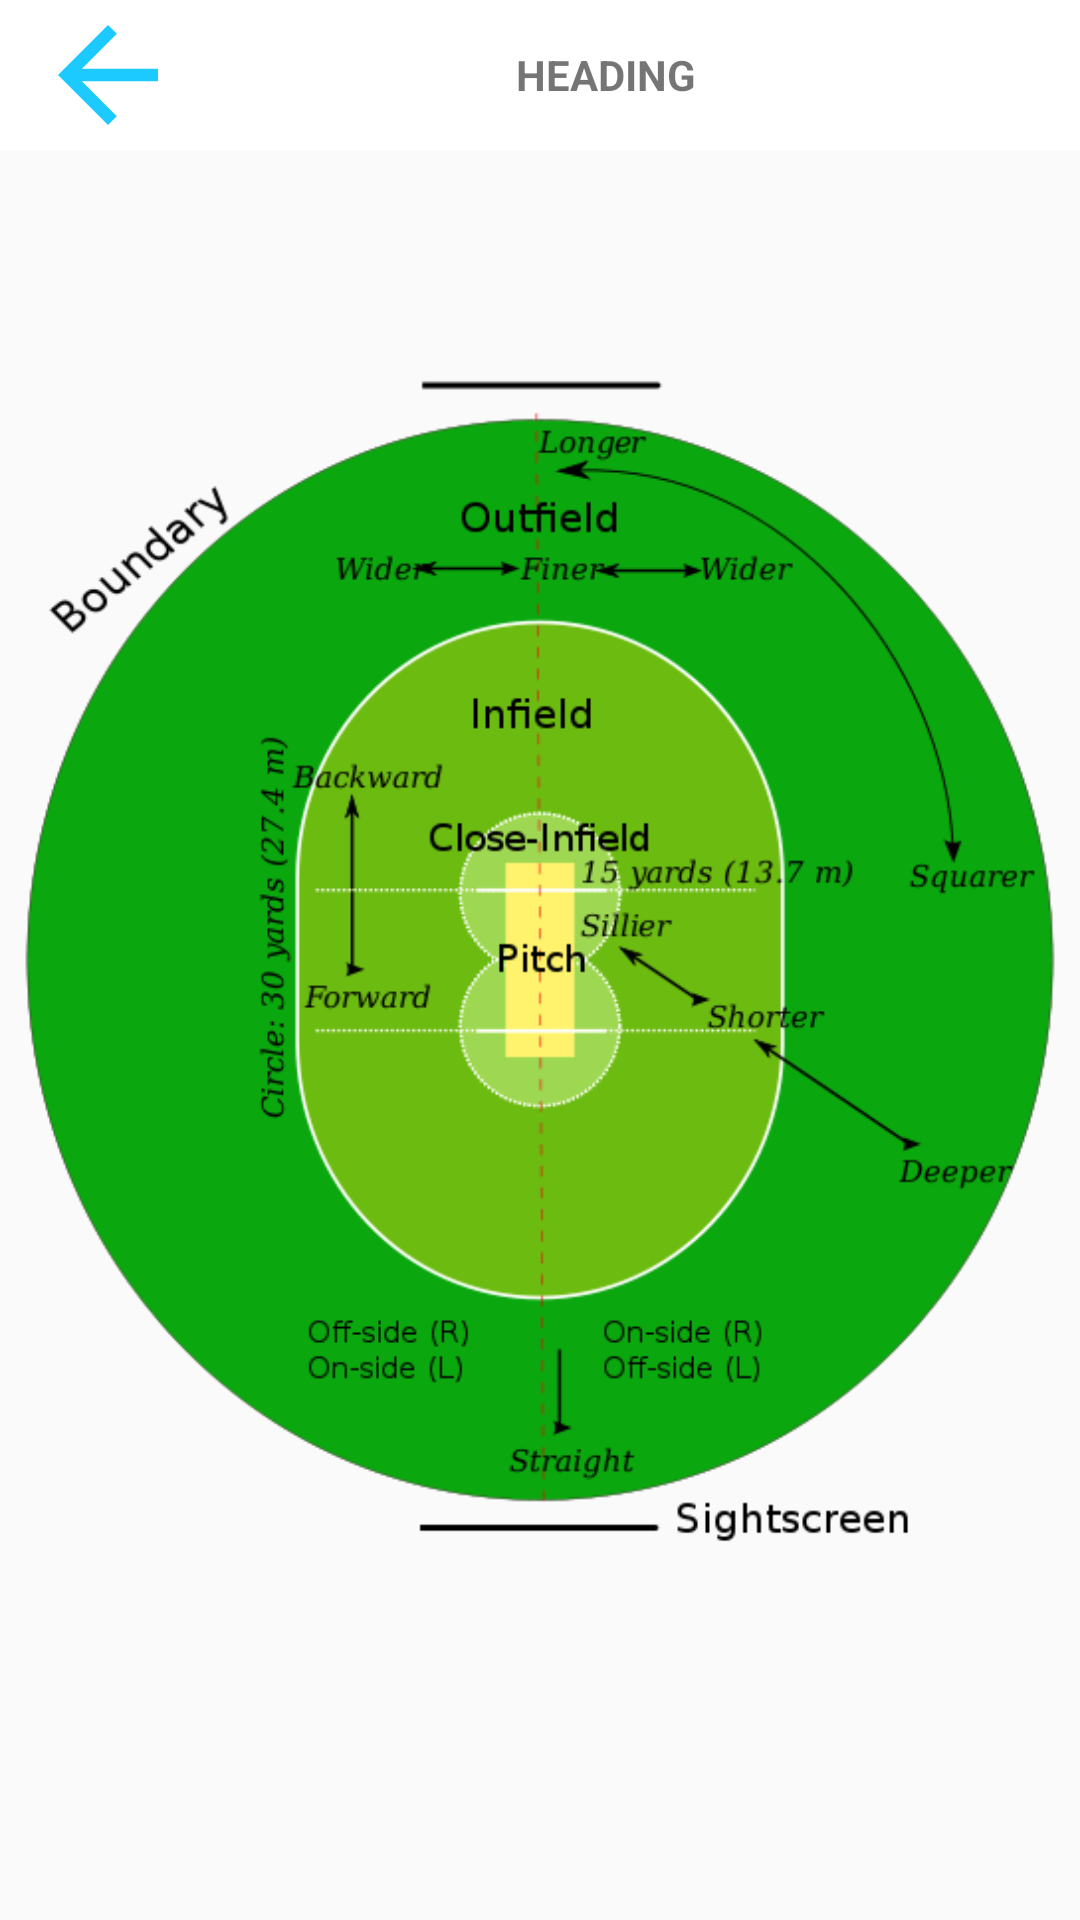

Screen size 1080x1920. Icon name, then its center in pixels as point (x, y):
backarrow: point (108, 75)
